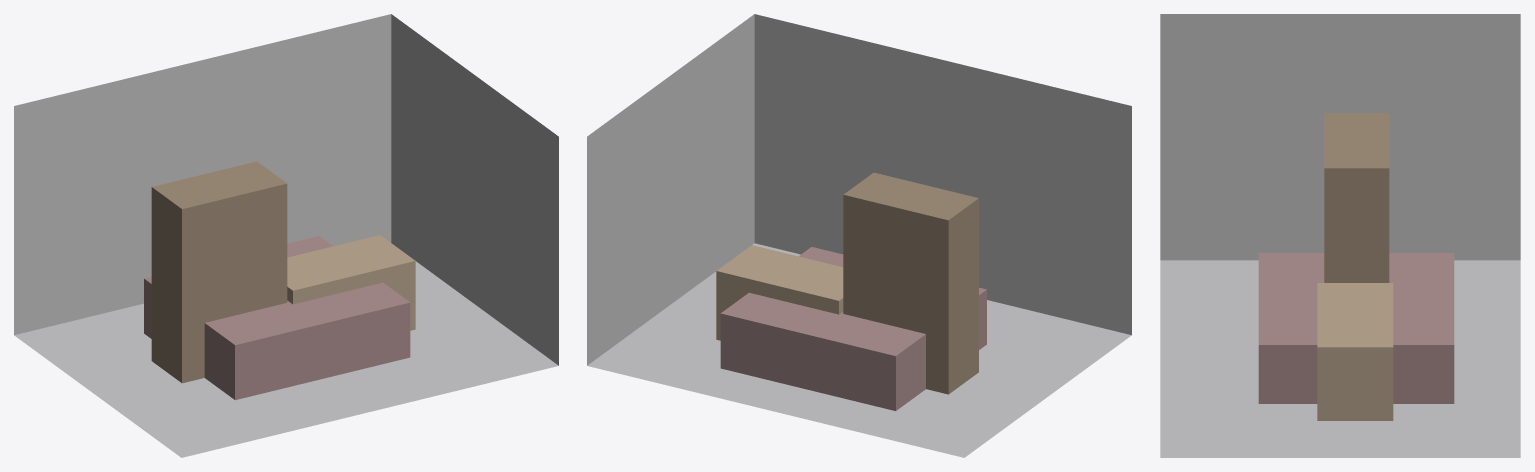
File: optimised_layout.glb
The picture shows the model from 3 angles, left to right: view 1: azimuth 30°, elevation 25°; view 2: azimuth 150°, elevation 25°; view 3: azimuth 270°, elevation 25°; orthographic projection. The views are drawn at different scales.
Parts seen in each view (by area): view 1: room, wardrobe, bed, desk; view 2: room, wardrobe, bed, desk; view 3: room, bed, wardrobe, desk.
Boxes of the visible parts, box(x1,y1,x2,y2) form: room: box(14, 14, 558, 457); wardrobe: box(151, 161, 287, 383); bed: box(144, 236, 410, 400); desk: box(287, 235, 415, 330); room: box(587, 14, 1131, 457); wardrobe: box(843, 172, 978, 394); bed: box(720, 247, 986, 410); desk: box(716, 245, 843, 340); room: box(1160, 14, 1520, 457); bed: box(1258, 253, 1454, 403); wardrobe: box(1324, 113, 1389, 282); desk: box(1317, 283, 1393, 420).
Bounding box in the file's own units: 4.31 × 2.5 × 3.31.
